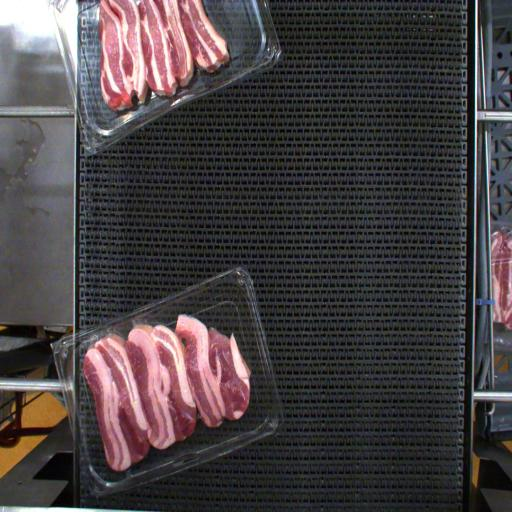packaging-error: (79, 328, 124, 350), (127, 314, 158, 329)
